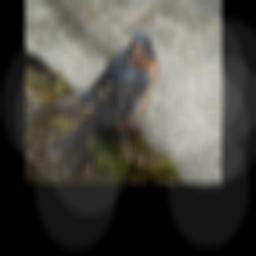Swallow: (25, 31, 160, 150)
